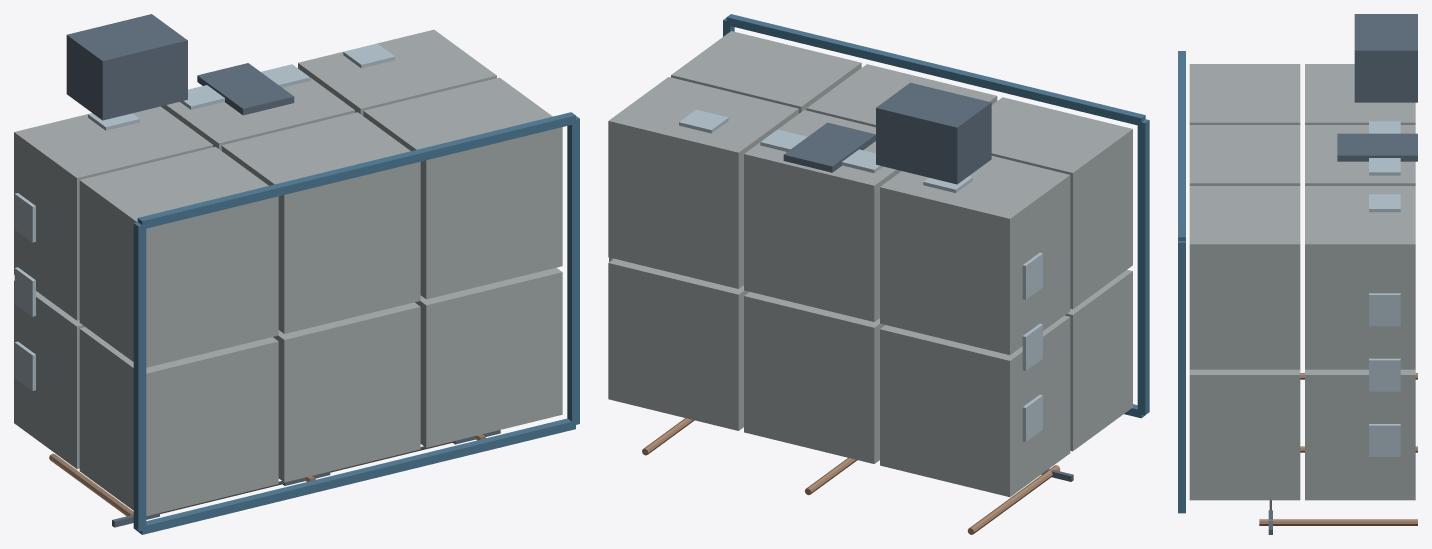
The model's file is building-utility-company.glb.
3 views of the same model, side by side, from view 1: azimuth 30°, elevation 25°; view 2: azimuth 150°, elevation 25°; view 3: azimuth 270°, elevation 25° (orthographic). The views are drawn at different scales.
Visible parts, largest first — view 1: world; view 2: world; view 3: world.
Part boxes in pixels (x1,y1,x2,y2): world: [14, 14, 579, 534]; world: [608, 14, 1149, 534]; world: [1178, 14, 1417, 534].
Size of the model in its own units: 15.56 by 14.22 by 8.32.
